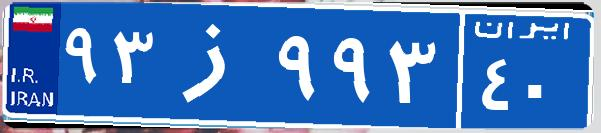0: (525, 38, 570, 115)
3: (385, 28, 445, 110), (110, 28, 158, 105)
4: (475, 38, 525, 113)
9: (273, 28, 330, 110), (330, 28, 385, 110), (57, 26, 110, 107)
ز: (158, 15, 273, 115)
